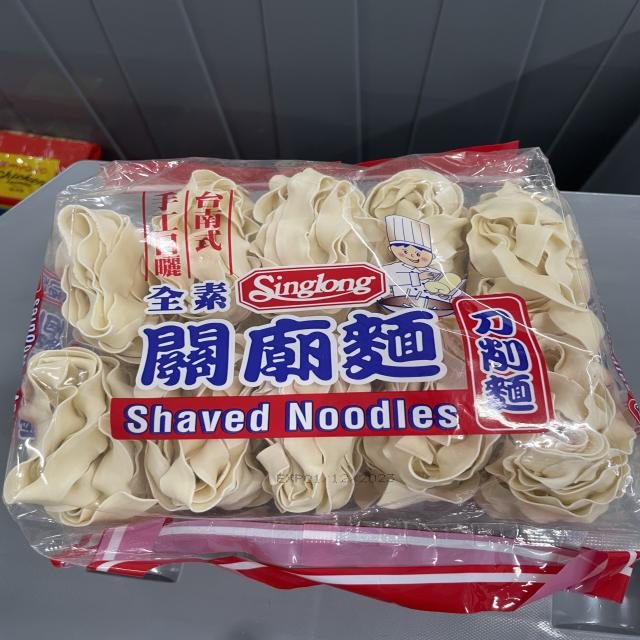object_name: (38, 170, 591, 570)
